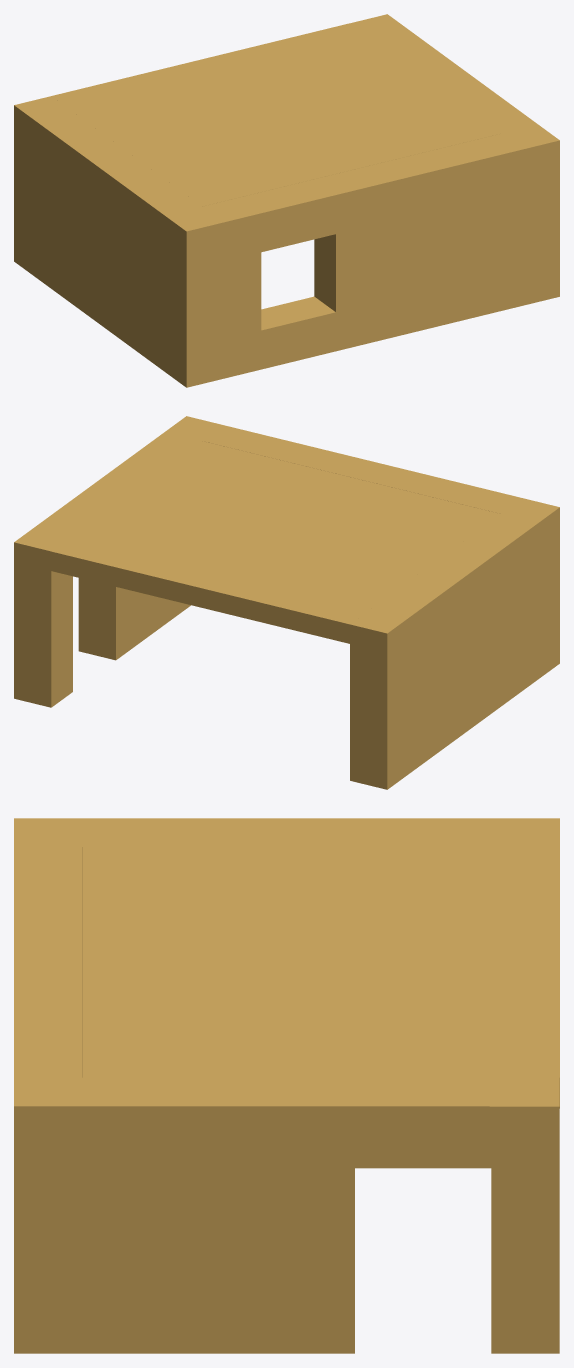
File: casa3baseA.obj
3 views of the same model, one above another, from view 1: azimuth 30°, elevation 25°; view 2: azimuth 150°, elevation 25°; view 3: azimuth 270°, elevation 25° (orthographic). The views are drawn at different scales.
Visible parts, largest first — view 1: Wall_window.009; view 2: Wall_window.009; view 3: Wall_window.009.
Boxes of the visible parts, x1,y1,x2,y2 form: Wall_window.009: (14,14,559,387); Wall_window.009: (14,416,559,789); Wall_window.009: (14,818,559,1353).
Size of the model in its own units: 10 by 4 by 8.01.
Materials: 8 (8 with a texture image).
